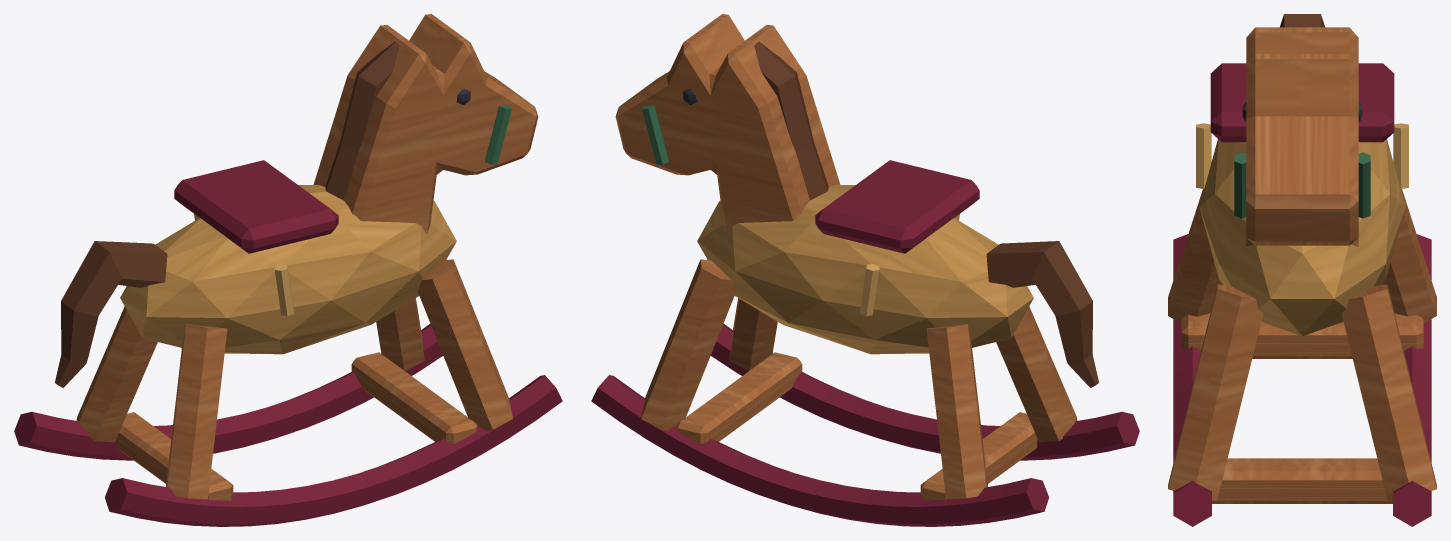
File: toy_rocking_horse.glb
3 renders of one model, left to right at view 1: azimuth 30°, elevation 25°; view 2: azimuth 150°, elevation 25°; view 3: azimuth 270°, elevation 25°, orthographic. The views are drawn at different scales.
Visible parts, largest first — view 1: toy_rocking_horse; view 2: toy_rocking_horse; view 3: toy_rocking_horse.
Boxes of the visible parts, x1,y1,x2,y2 form: toy_rocking_horse: [14, 14, 562, 526]; toy_rocking_horse: [591, 14, 1139, 526]; toy_rocking_horse: [1168, 14, 1436, 526].
Size of the model in its own units: 0.2889 by 0.2469 by 0.1199.
7 materials, 2 textured.
